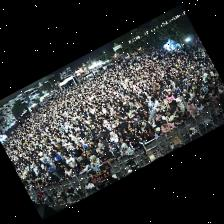person: (129, 138, 148, 157), (64, 155, 78, 174), (45, 164, 59, 179), (139, 128, 154, 141), (69, 146, 81, 162), (100, 150, 113, 163), (86, 147, 99, 160), (161, 121, 173, 133), (120, 144, 132, 156), (161, 105, 174, 116), (133, 126, 143, 140), (80, 159, 90, 173), (173, 113, 183, 126), (123, 128, 133, 141), (48, 173, 59, 184), (89, 156, 99, 168), (109, 132, 118, 145), (64, 166, 73, 179), (176, 99, 185, 112), (76, 142, 86, 153), (165, 111, 174, 123), (186, 99, 194, 112), (98, 138, 108, 148), (201, 95, 210, 106), (97, 144, 108, 153), (113, 146, 120, 160), (148, 107, 156, 119), (47, 159, 55, 171), (148, 116, 156, 128), (195, 100, 202, 113), (189, 108, 198, 118), (119, 137, 128, 147), (108, 141, 114, 156), (166, 91, 173, 103), (142, 110, 149, 122), (31, 164, 38, 176), (34, 178, 43, 187), (154, 128, 162, 138), (103, 120, 110, 130), (160, 100, 166, 110), (140, 122, 146, 132), (107, 176, 115, 183), (30, 182, 37, 189), (174, 107, 179, 114)
